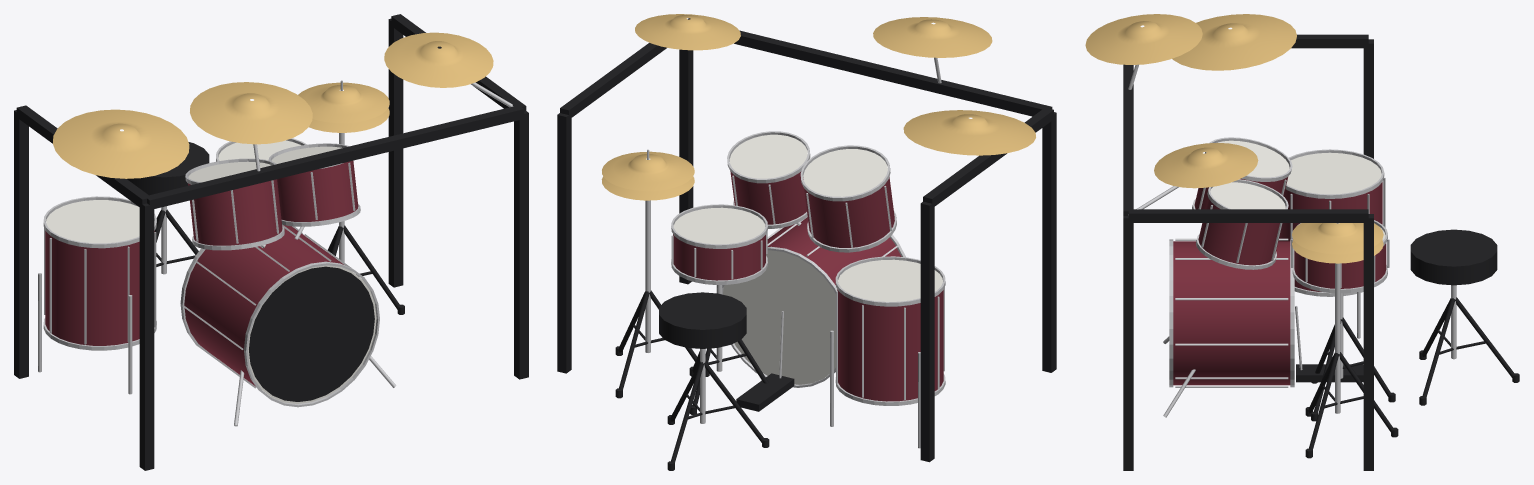
File: drum-set-cage.glb
3 renders of one model, left to right at view 1: azimuth 30°, elevation 25°; view 2: azimuth 150°, elevation 25°; view 3: azimuth 270°, elevation 25°, orthographic. The views are drawn at different scales.
Visible parts, largest first — view 1: frame, shell, cymbal, artwork, metal, head; view 2: frame, head, shell, cymbal, metal; view 3: frame, shell, cymbal, metal, head.
Boxes of the visible parts, bbox=[...] form: frame: bbox=[14, 14, 528, 470]; shell: bbox=[45, 160, 358, 386]; cymbal: bbox=[52, 32, 493, 178]; artwork: bbox=[249, 266, 374, 401]; metal: bbox=[38, 80, 513, 426]; head: bbox=[46, 140, 376, 403]; frame: bbox=[557, 18, 1056, 470]; head: bbox=[673, 134, 942, 384]; shell: bbox=[673, 171, 943, 401]; cymbal: bbox=[601, 14, 1035, 200]; metal: bbox=[645, 57, 945, 448]; frame: bbox=[1123, 34, 1519, 470]; shell: bbox=[1173, 176, 1386, 385]; cymbal: bbox=[1085, 14, 1383, 263]; metal: bbox=[1128, 64, 1456, 417]; head: bbox=[1210, 140, 1385, 240].
Bounding box in the file's own units: 1.76 × 1.37 × 1.68.
